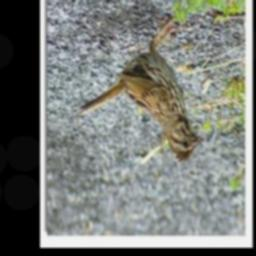Sparrow: (77, 14, 209, 166)
